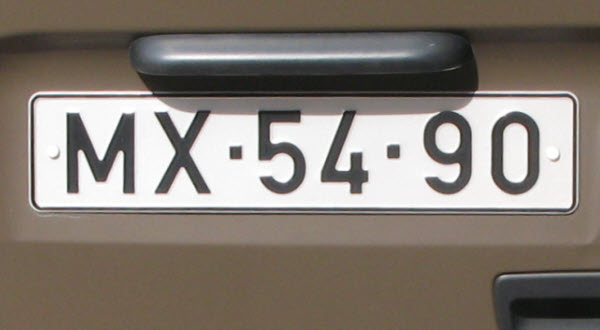license_plate: (28, 92, 579, 215)
